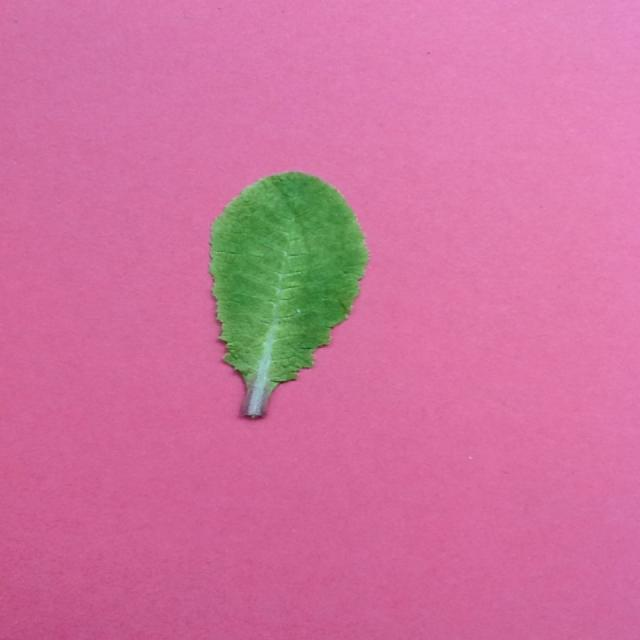foliage: (208, 167, 370, 420)
